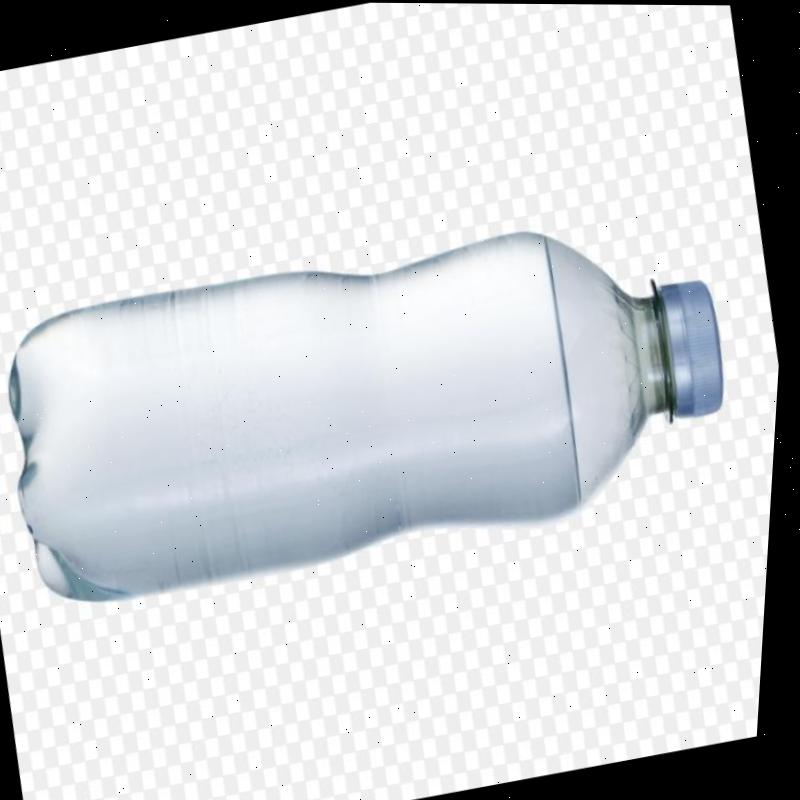botella: (0, 182, 763, 626)
